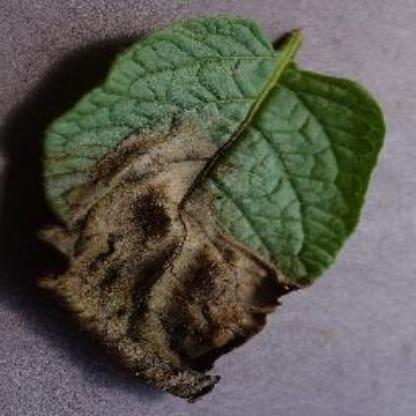Late-Blight: (18, 10, 394, 408)
